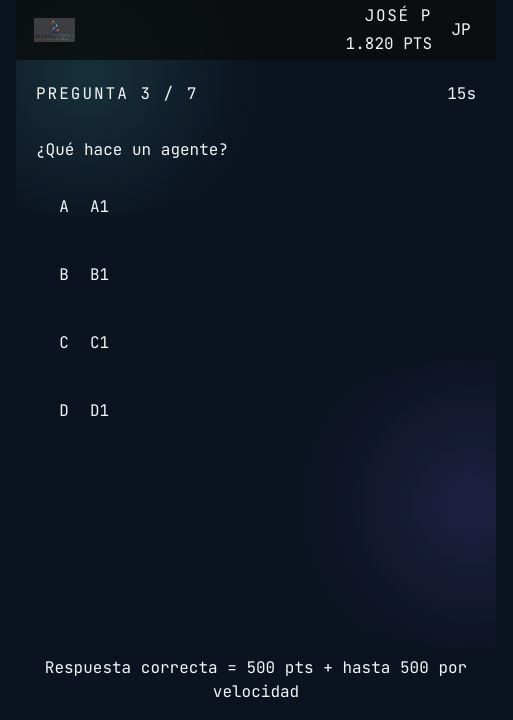
Scenario: Sala › rolls back and shows the 409 message when the answer is rejected
Click the button with test id "sala-option-0" at (64, 206), box [36, 178, 476, 236]
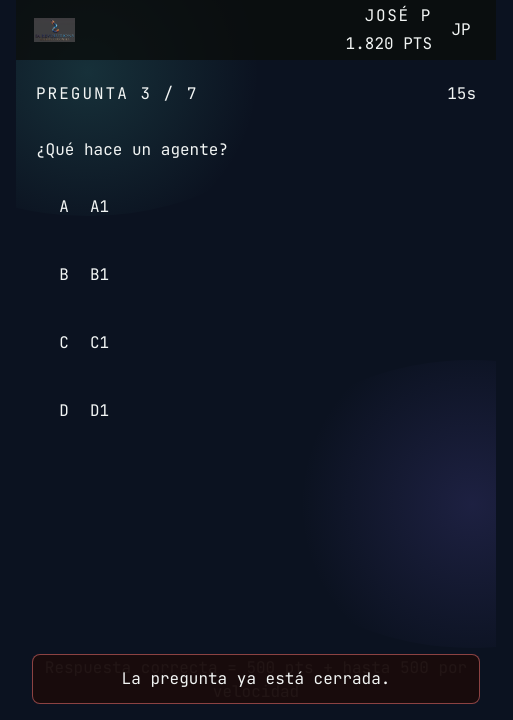
Check: the message with test id "sala-toast" reads "La pregunta ya está cerrada.", box [122, 668, 390, 689]
